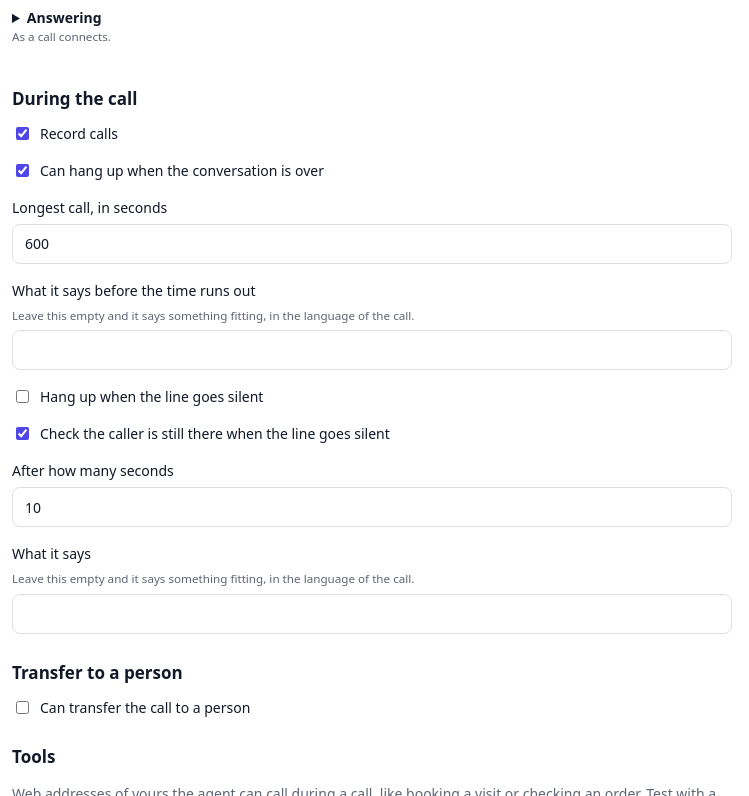
it: how an agent behaves on a call › asks for the seconds when silence handling is on with none, and sends nothing
(page scrolled)
Click the checkbox labelled "Hang up when the line goes silent": (22, 397) [16,390,29,403]
(page scrolled)
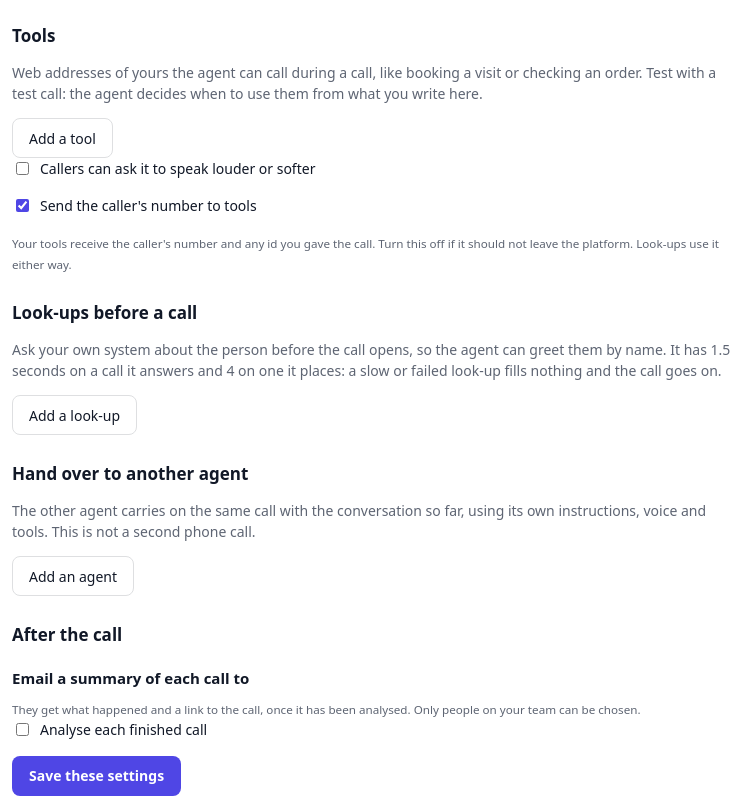
Click the button "Save these settings": (97, 776) [12,756,181,795]
(page scrolled)
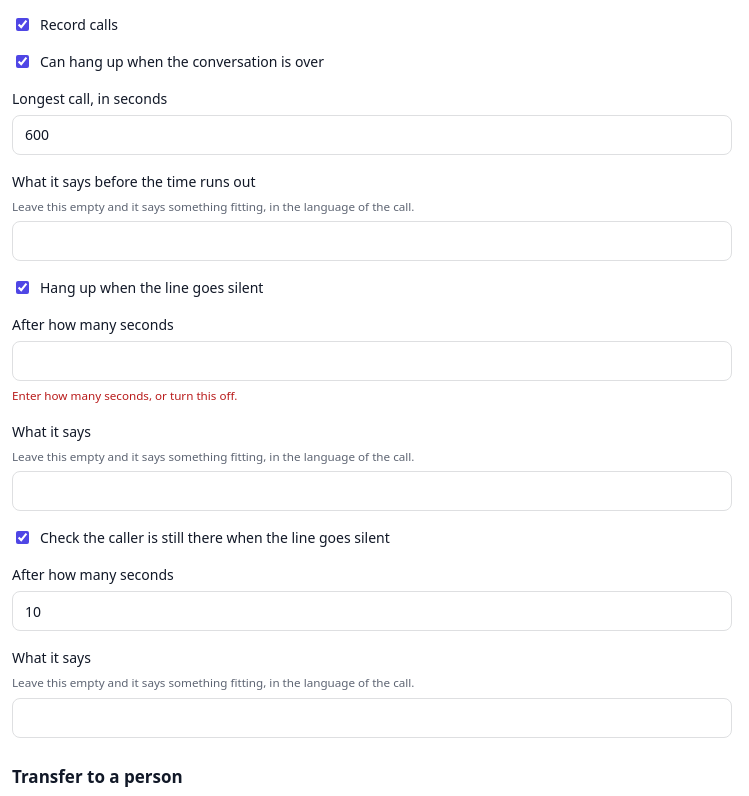
Expected: the text "Enter how many seconds, or turn this off." is shown, [12,388,237,403]
